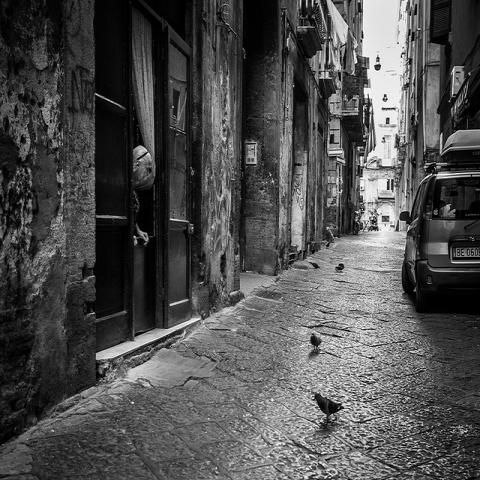car: (396, 170, 480, 316)
